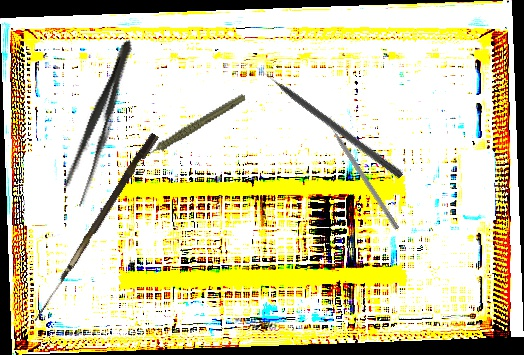Chopper: (323, 113, 406, 231)
Dressing Forceps: (57, 35, 142, 210)
Handpiece: (131, 92, 254, 159)
Hook Surgical: (34, 130, 159, 327)
Pusher: (254, 62, 405, 180)
